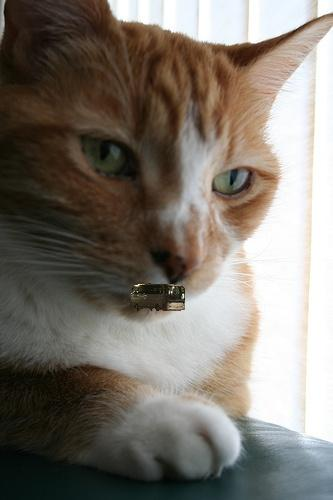tampered: (131, 284, 185, 311)
